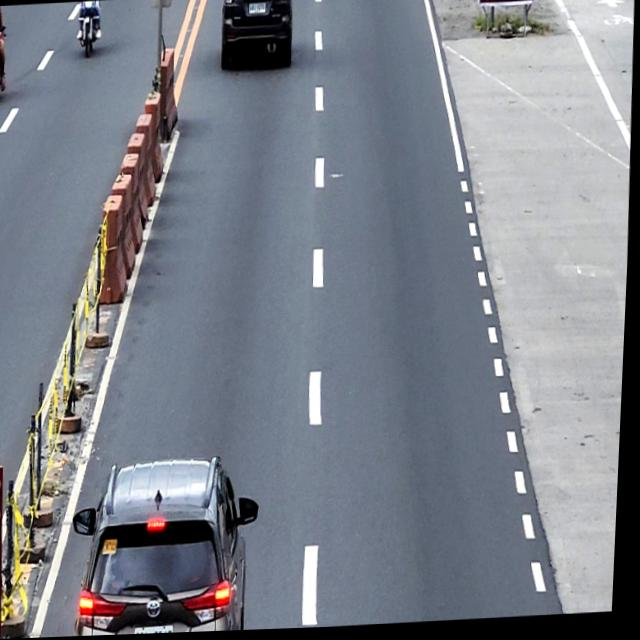Car: (72, 453, 267, 637), (219, 0, 293, 71)
License-Plate: (138, 624, 180, 635), (247, 3, 267, 15)
Motorcycle: (75, 1, 103, 58), (0, 24, 8, 95)
